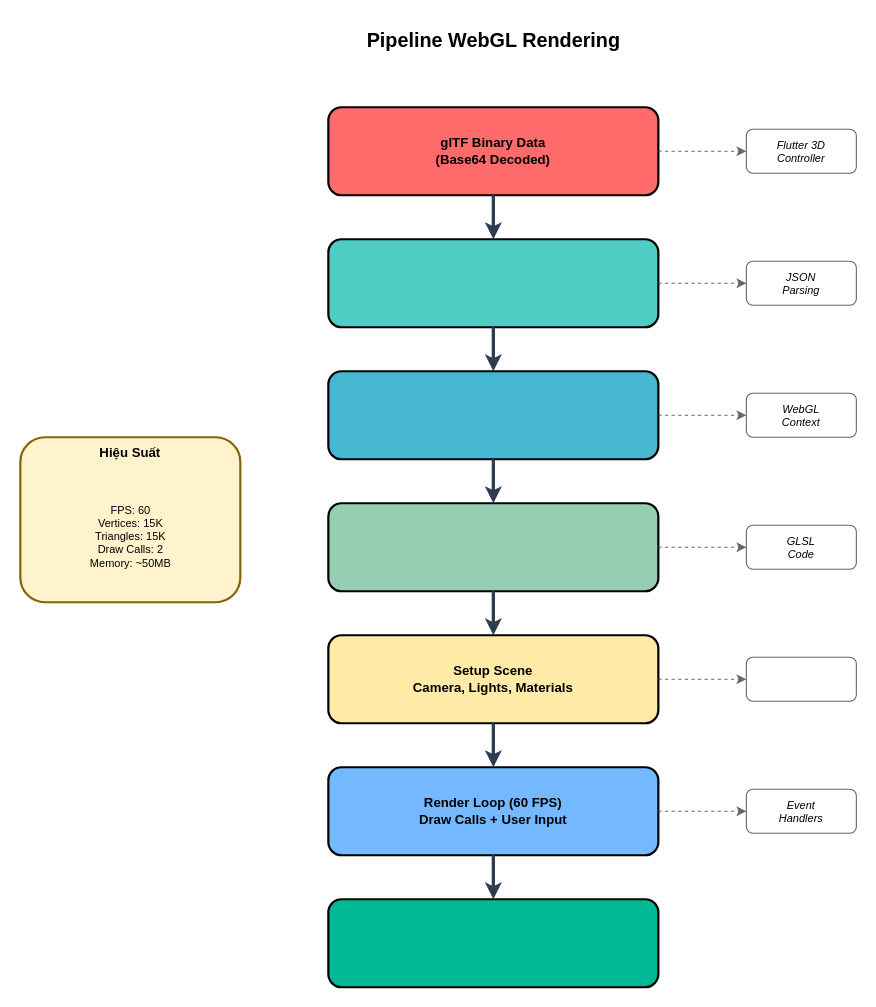
The diagram is 876 pixels wide and 1007 high, and some of its shapes have lost their labels. Each missing label, with the centre of its shape:
"3D Interactive View Rotate, Zoom, Pan" belongs at pixel 493 943.
"3D Math Libraries" belongs at pixel 800 678.
"Compile Shaders Vertex + Fragment Shaders" belongs at pixel 493 547.
"Create WebGL Buffers Vertex Buffer, Index Buffer" belongs at pixel 493 415.
"Parse glTF Structure Vertices, Faces, Materials" belongs at pixel 493 283.
